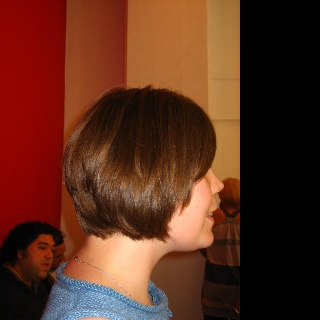without_mask: (168, 96, 224, 251)
